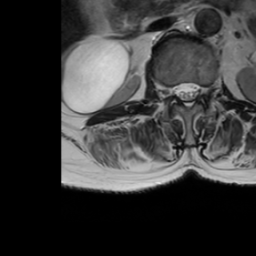CCS_normal: (183, 76, 190, 111)
LFS_normal: (199, 78, 207, 103)
LLS_normal: (191, 77, 199, 105)
RFS_normal: (165, 77, 174, 104)
RLS_normal: (174, 77, 183, 105)
